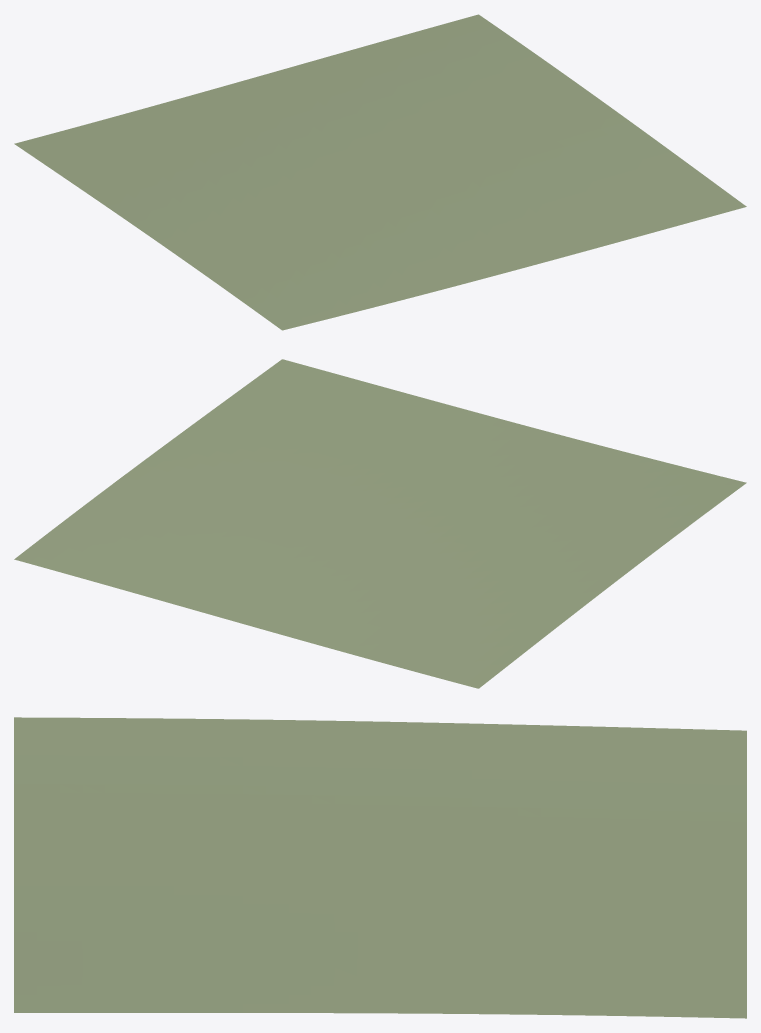
The model's file is expanse-20-0.glb.
3 views of the same model, one above another, from view 1: azimuth 30°, elevation 25°; view 2: azimuth 150°, elevation 25°; view 3: azimuth 270°, elevation 25° (orthographic). The views are drawn at different scales.
Visible parts, largest first — view 1: expanse-20-0; view 2: expanse-20-0; view 3: expanse-20-0.
Part boxes in pixels (left/top/right/bottom): expanse-20-0: left=14, top=14, right=746, bottom=330; expanse-20-0: left=14, top=359, right=746, bottom=688; expanse-20-0: left=14, top=717, right=746, bottom=1018.
Size of the model in its own units: 256 by 10.6 by 256.
